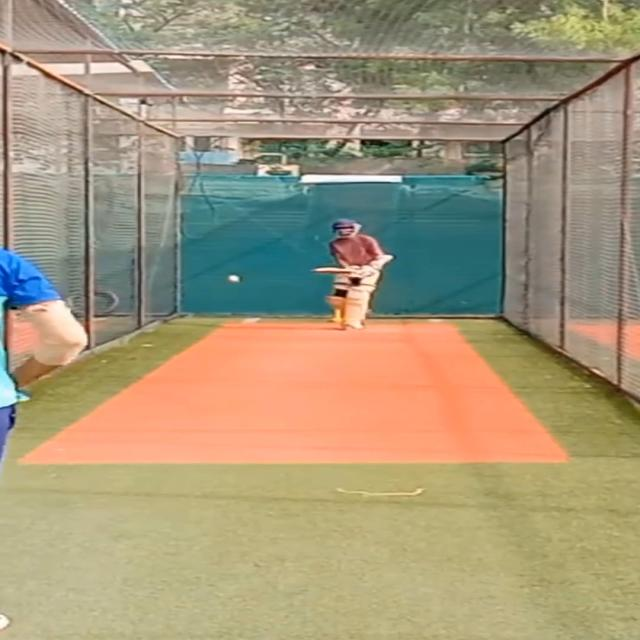ball: (225, 275, 243, 285)
